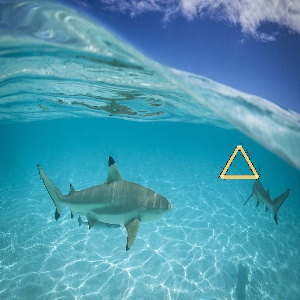triangle: (216, 143, 262, 182)
